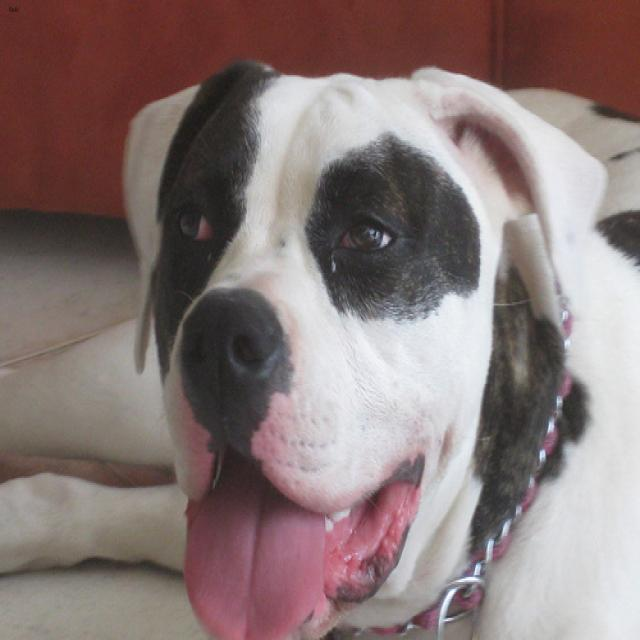dog-american_bulldog: (1, 51, 637, 637)
